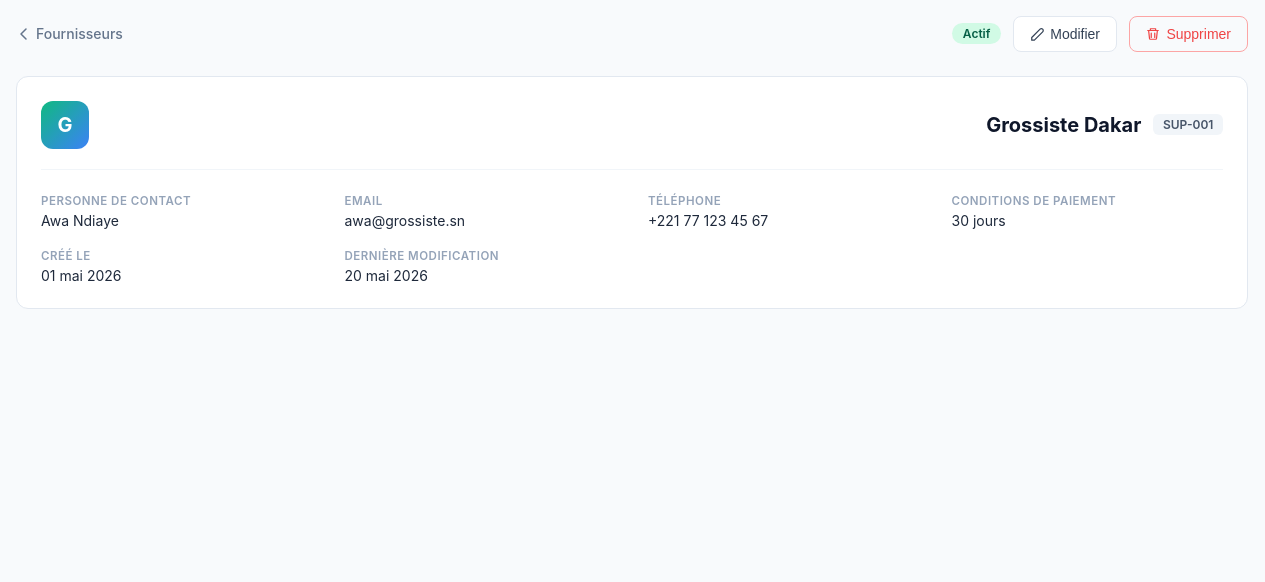
Test: SupplierDetailView › switches to edit mode and pre-fills the form
This screenshot has width=1265, height=582.
Click the button "Modifier" at x=1065, y=34, box [1013,16,1117,52]
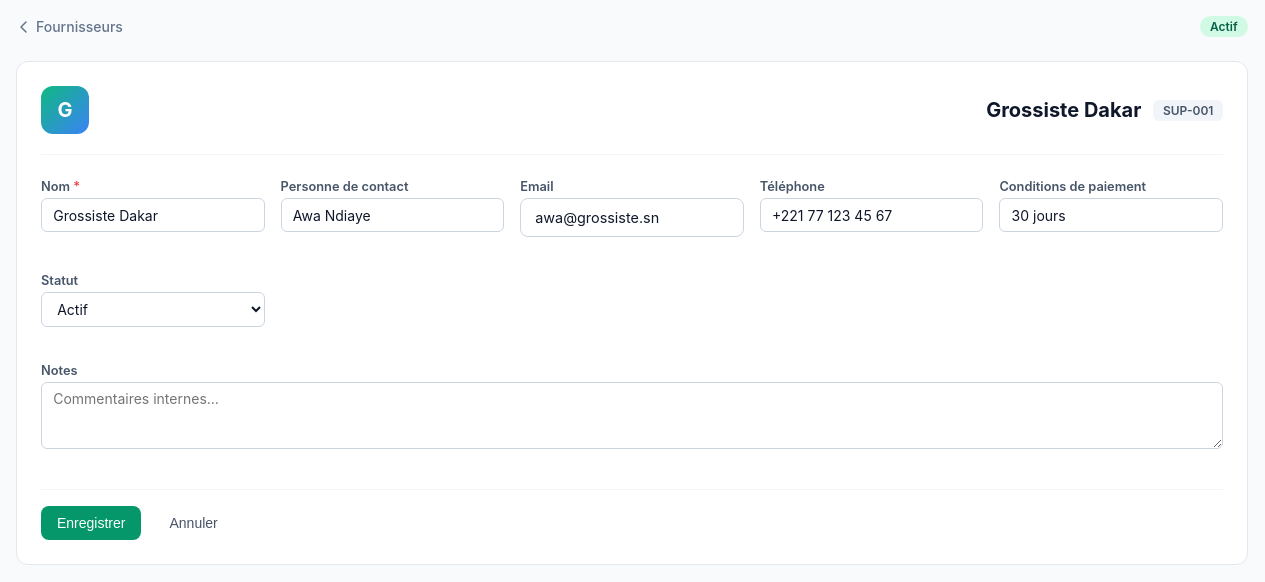
Check: the field below "Nom" holds "Grossiste Dakar", box [41,198,265,232]
